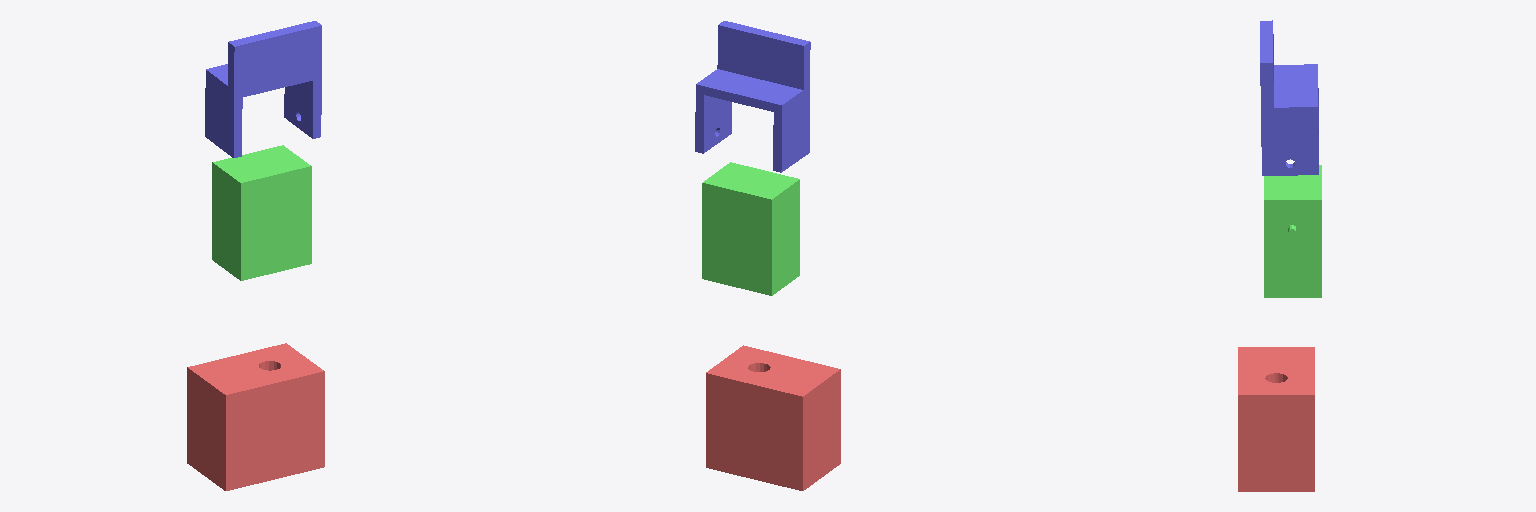
The robot description file, URDF, robot "pan_tilt_simple_urdf":
<?xml version="1.0" encoding="utf-8"?>
<!-- This URDF was automatically created by SolidWorks to URDF Exporter! Originally created by [author] ([email redacted]) 
     Commit Version: 1.5.1-0-g916b5db  Build Version: 1.5.7152.31018
     For more information, please see http://wiki.ros.org/sw_urdf_exporter -->
<robot
  name="pan_tilt_simple_urdf">
  <link
    name="base_link">
    <inertial>
      <origin
        xyz="0 0 0.032301"
        rpy="0 0 0" />
      <mass
        value="0.21656" />
      <inertia
        ixx="0.00011572"
        ixy="0"
        ixz="0"
        iyy="0.00016448"
        iyz="0"
        izz="0.00012903" />
    </inertial>
    <visual>
      <origin
        xyz="0 0 0"
        rpy="0 0 0" />
      <geometry>
        <mesh
          filename="package://pan_tilt_simple_urdf/meshes/base_link.STL" />
      </geometry>
      <material
        name="">
        <color
          rgba="1 0.5 0.5 1" />
      </material>
    </visual>
    <collision>
      <origin
        xyz="0 0 0"
        rpy="0 0 0" />
      <geometry>
        <mesh
          filename="package://pan_tilt_simple_urdf/meshes/base_link.STL" />
      </geometry>
    </collision>
  </link>
  <link
    name="link_1">
    <inertial>
      <origin
        xyz="0 0 0.032968"
        rpy="0 0 0" />
      <mass
        value="0.11877" />
      <inertia
        ixx="6.8518E-05"
        ixy="0"
        ixz="0"
        iyy="5.5869E-05"
        iyz="0"
        izz="3.6782E-05" />
    </inertial>
    <visual>
      <origin
        xyz="0 0 0"
        rpy="0 0 0" />
      <geometry>
        <mesh
          filename="package://pan_tilt_simple_urdf/meshes/link_1.STL" />
      </geometry>
      <material
        name="">
        <color
          rgba="0.5 1 0.5 1" />
      </material>
    </visual>
    <collision>
      <origin
        xyz="0 0 0"
        rpy="0 0 0" />
      <geometry>
        <mesh
          filename="package://pan_tilt_simple_urdf/meshes/link_1.STL" />
      </geometry>
    </collision>
  </link>
  <joint
    name="joint_1"
    type="revolute">
    <origin
      xyz="0.01 0 0.0655"
      rpy="0 0 0" />
    <parent
      link="base_link" />
    <child
      link="link_1" />
    <axis
      xyz="0 0 -1" />
    <limit
      lower="-1.57"
      upper="-1.57"
      effort="0"
      velocity="0" />
  </joint>
  <link
    name="link_2">
    <inertial>
      <origin
        xyz="-0.0045111 0.00010667 0.032471"
        rpy="0 0 0" />
      <mass
        value="0.045421" />
      <inertia
        ixx="3.9408E-05"
        ixy="0"
        ixz="0"
        iyy="2.197E-05"
        iyz="0"
        izz="2.7493E-05" />
    </inertial>
    <visual>
      <origin
        xyz="0 0 0"
        rpy="0 0 0" />
      <geometry>
        <mesh
          filename="package://pan_tilt_simple_urdf/meshes/link_2.STL" />
      </geometry>
      <material
        name="">
        <color
          rgba="0.5 0.5 1 1" />
      </material>
    </visual>
    <collision>
      <origin
        xyz="0 0 0"
        rpy="0 0 0" />
      <geometry>
        <mesh
          filename="package://pan_tilt_simple_urdf/meshes/link_2.STL" />
      </geometry>
    </collision>
  </link>
  <joint
    name="joint_2"
    type="revolute">
    <origin
      xyz="-0.000390000000000005 0 0.04655"
      rpy="0 -0.00745425880161301 0" />
    <parent
      link="link_1" />
    <child
      link="link_2" />
    <axis
      xyz="0 1 0" />
    <limit
      lower="-1.57"
      upper="1.57"
      effort="0"
      velocity="0" />
  </joint>
</robot>

--- What the picture shows (computed from the rendered views, not written in the file) ---
The picture shows the robot from 3 angles, left to right: view 1: azimuth 30°, elevation 25°; view 2: azimuth 150°, elevation 25°; view 3: azimuth 270°, elevation 25°; orthographic projection.
Model pan_tilt_simple_urdf with 3 links and 2 joints (2 revolute), rooted at base_link, posed joints at zero except 1 at the middle of their limits (joint_1 = -1.57).
Links seen in each view (by area): view 1: base_link, link_1, link_2; view 2: base_link, link_1, link_2; view 3: base_link, link_1, link_2.
Boxes of the visible links, x1,y1,x2,y2 form: base_link: [187, 343, 324, 490]; link_1: [212, 145, 311, 280]; link_2: [205, 21, 321, 157]; base_link: [706, 345, 840, 490]; link_1: [702, 162, 799, 295]; link_2: [695, 21, 810, 172]; base_link: [1238, 347, 1314, 491]; link_1: [1264, 165, 1321, 297]; link_2: [1260, 20, 1318, 175].
Size in the robot's own frame: 0.076 by 0.051 by 0.292 metres.
Meshes: 3 distinct files referenced, 3 mesh visuals loaded (3 binary STL).